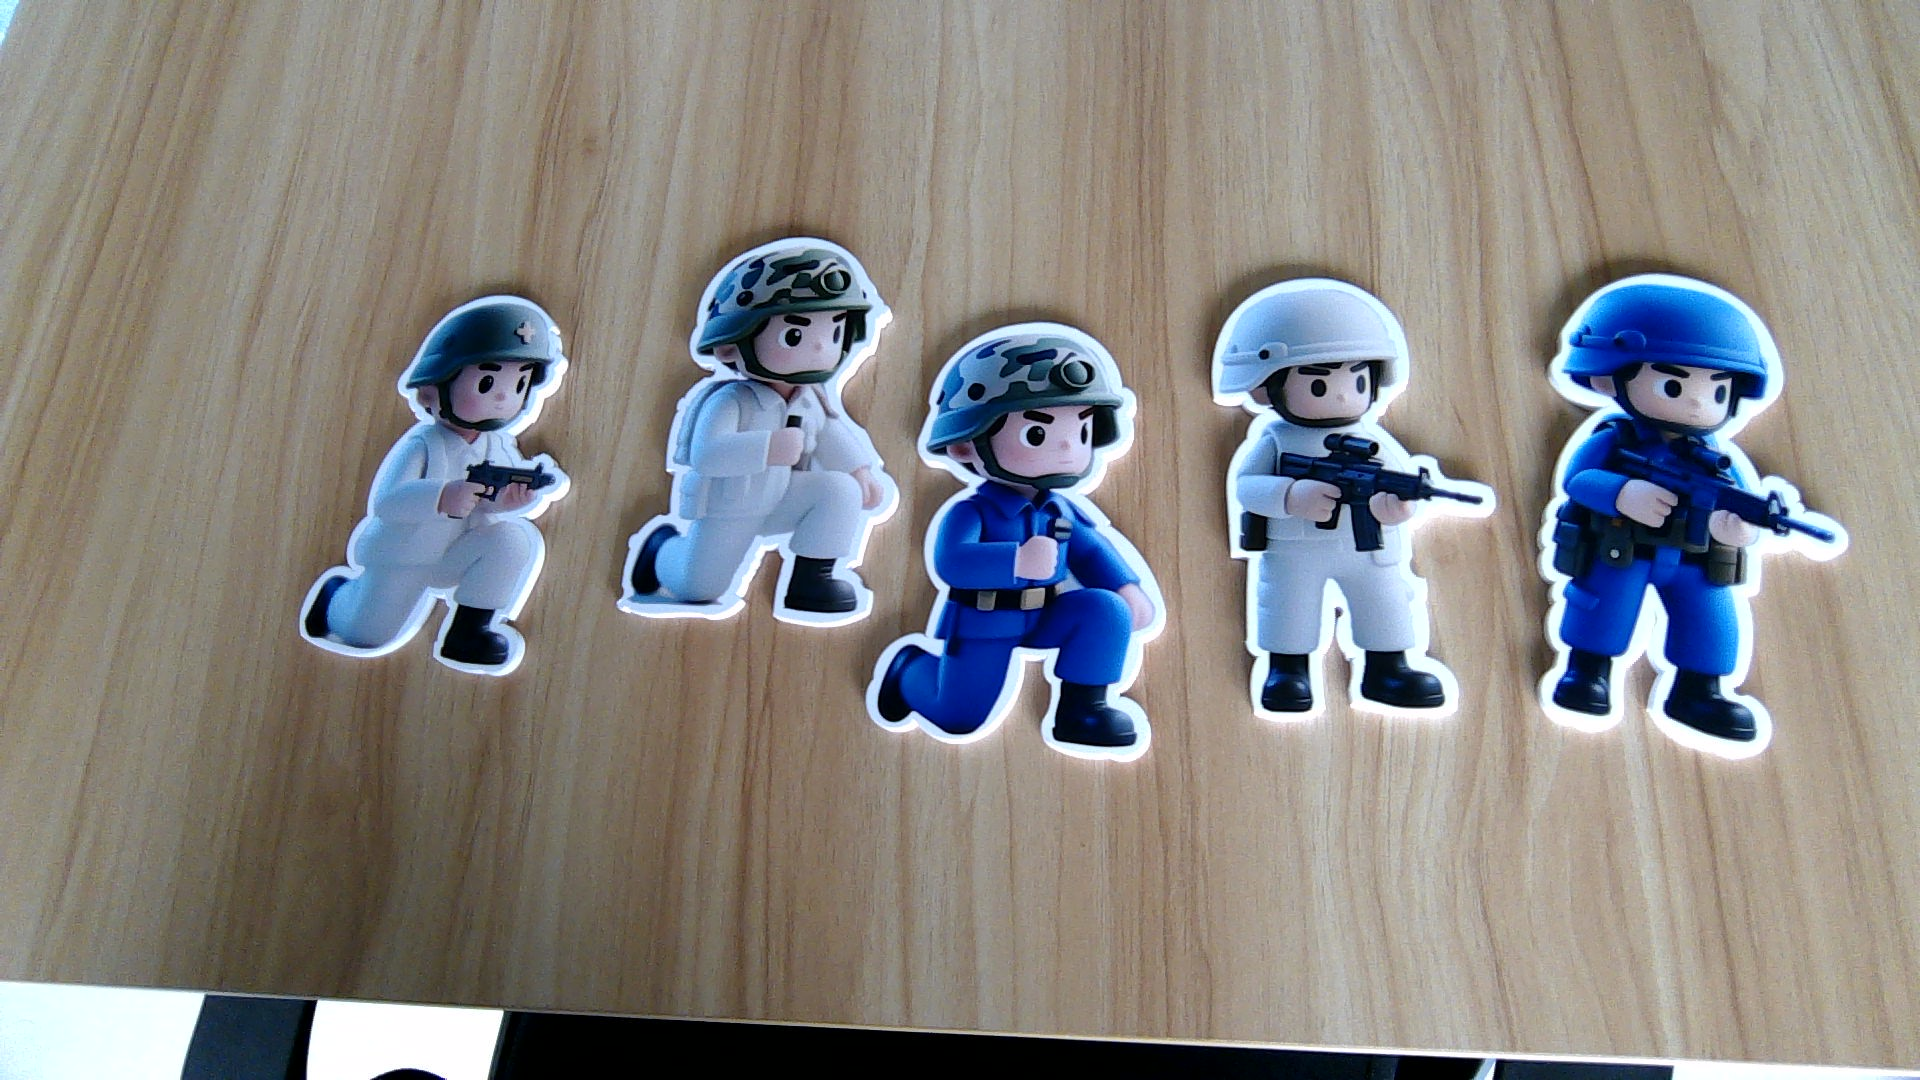人质: (1226, 426, 1493, 720), (290, 429, 582, 680), (615, 386, 902, 624)
敌人2: (1538, 429, 1855, 760), (865, 488, 1171, 762)
